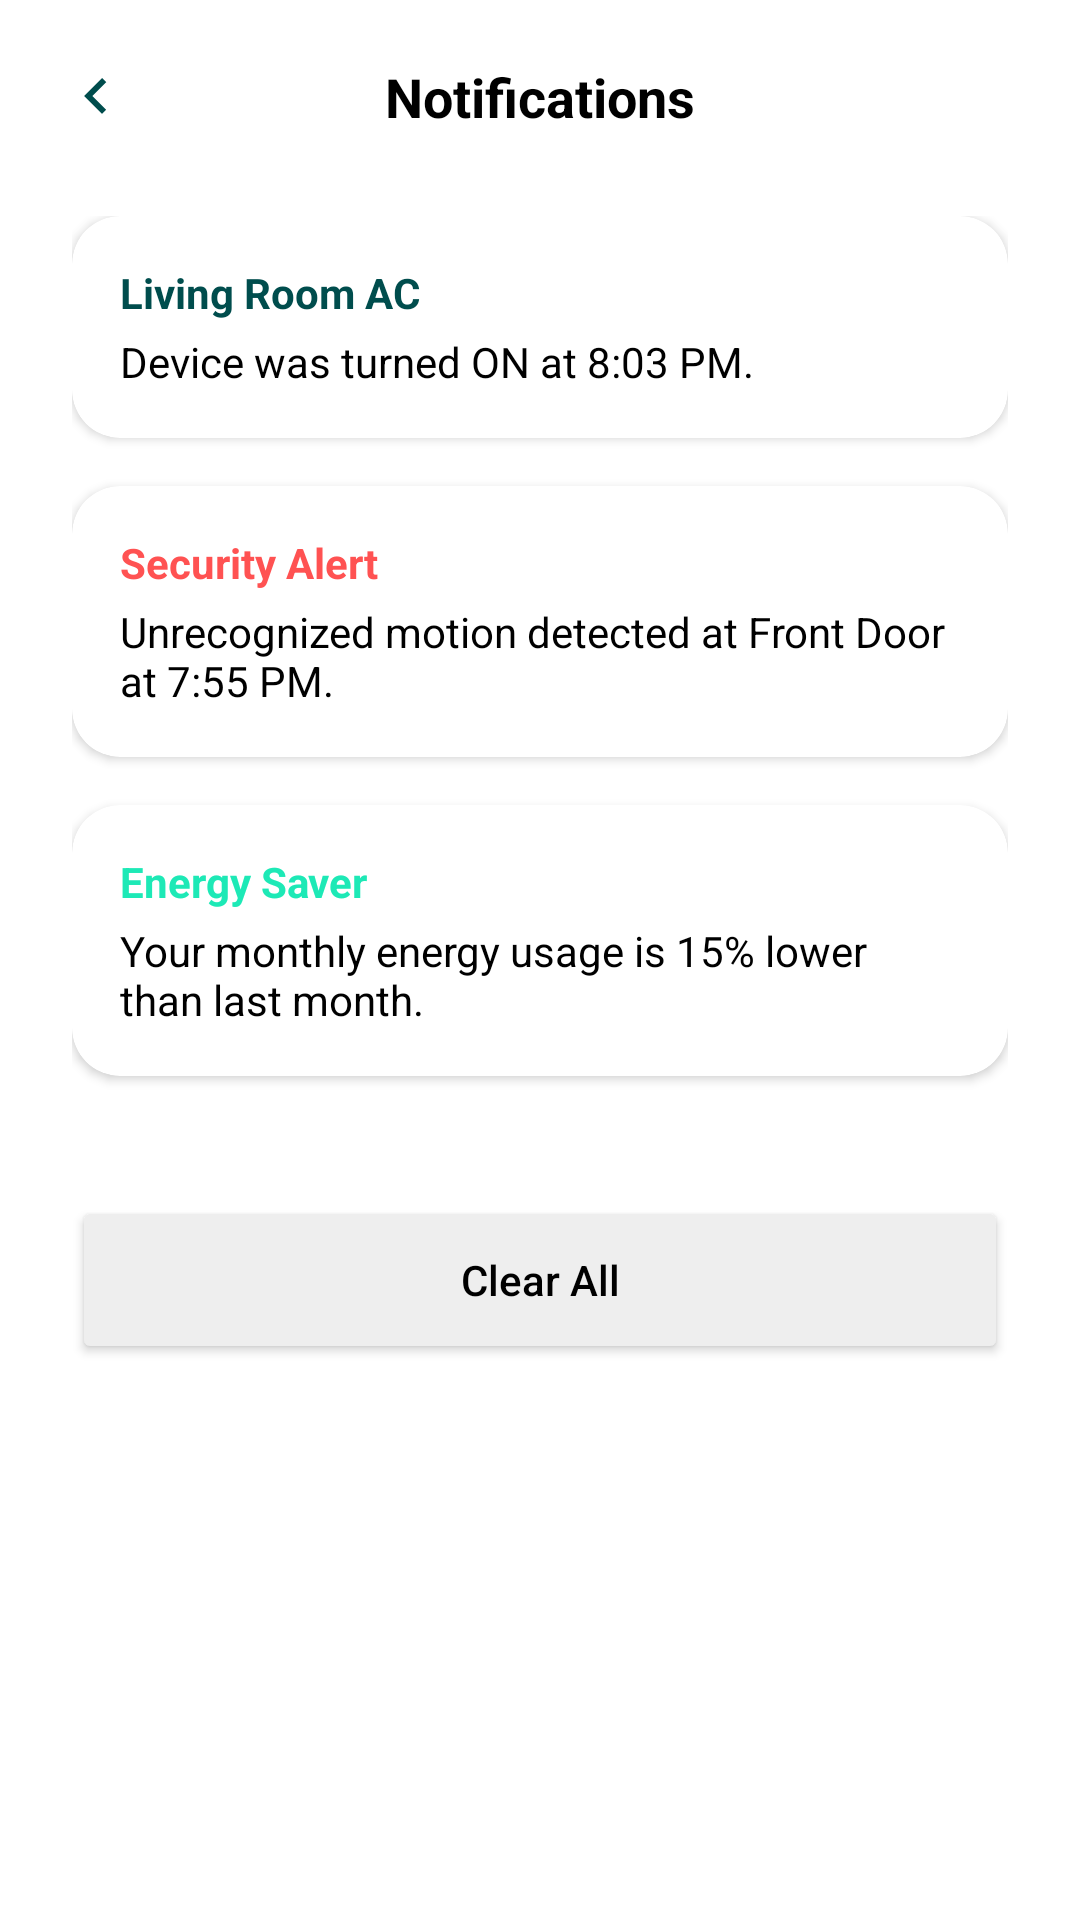

Where to tap for icons on this 1080px×1920px app screen, as [x,y]:
arrow back: [95,96]
